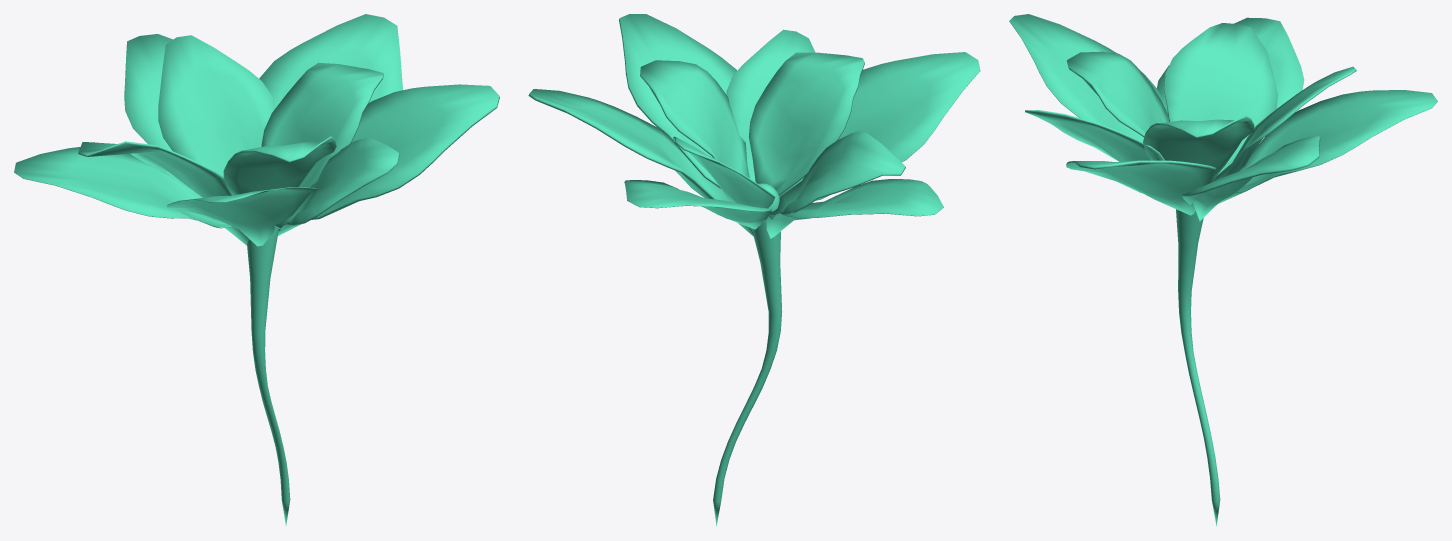
File: flower.gltf
The picture shows the model from 3 angles, left to right: view 1: azimuth 30°, elevation 25°; view 2: azimuth 150°, elevation 25°; view 3: azimuth 270°, elevation 25°; orthographic projection.
Visible parts, largest first — view 1: flower; view 2: flower; view 3: flower.
Boxes of the visible parts, x1,y1,x2,y2 form: flower: (14, 14, 499, 525); flower: (528, 14, 980, 525); flower: (1009, 14, 1437, 525).
Bounding box in the file's own units: 8.64 × 9.28 × 8.17.
